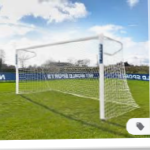goals: (12, 33, 140, 119)
